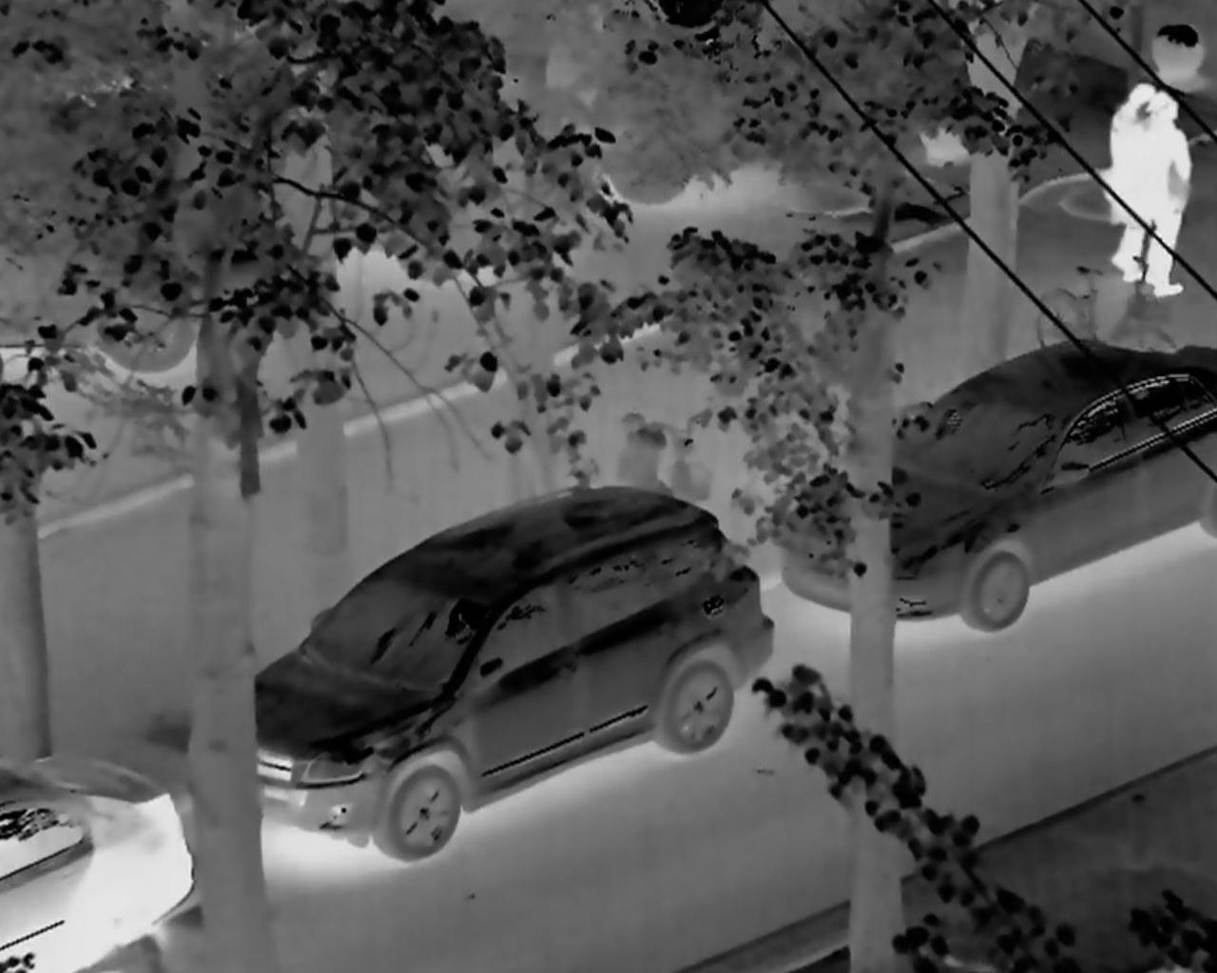person: (1087, 64, 1156, 301), (1145, 78, 1201, 308)
